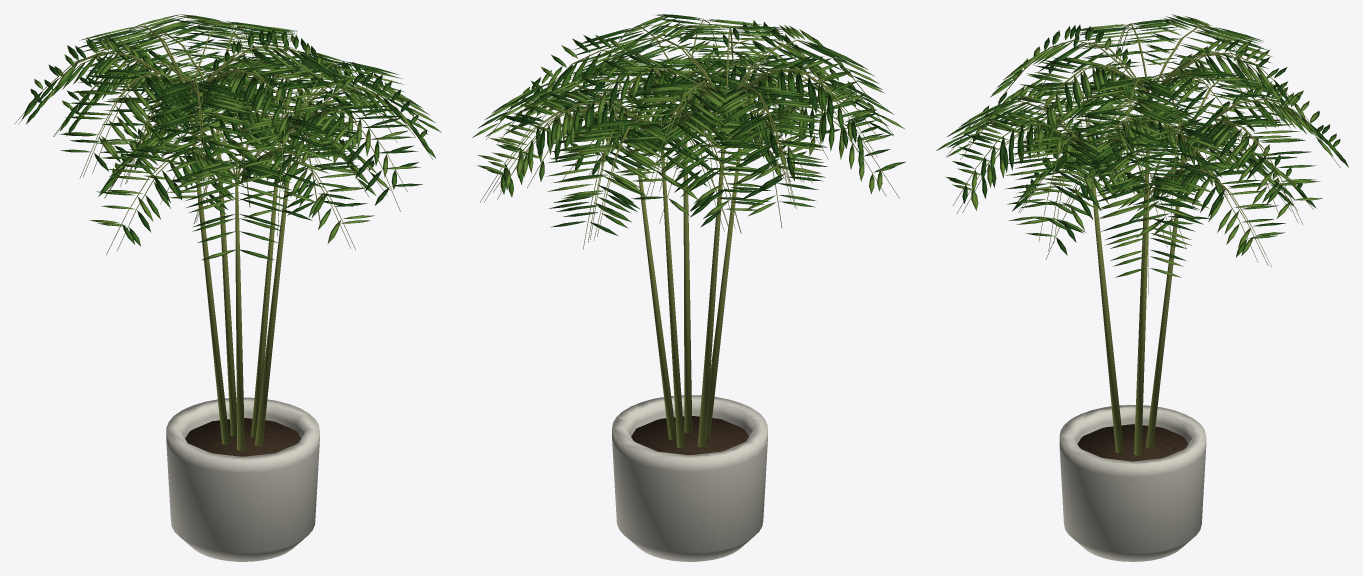
File: MV_Palm_Pot_Round_Small.fbx
3 renders of one model, left to right at view 1: azimuth 30°, elevation 25°; view 2: azimuth 150°, elevation 25°; view 3: azimuth 270°, elevation 25°, orthographic. The views are drawn at different scales.
Visible parts, largest first — view 1: LOD0_Mesh, LOD1_Mesh, LOD2_Mesh; view 2: LOD0_Mesh, LOD1_Mesh, LOD2_Mesh; view 3: LOD0_Mesh, LOD1_Mesh, LOD2_Mesh.
Boxes of the visible parts, x1,y1,x2,y2 form: LOD0_Mesh: (26,14,441,561); LOD1_Mesh: (18,14,428,561); LOD2_Mesh: (14,23,410,561); LOD0_Mesh: (472,14,896,561); LOD1_Mesh: (477,25,905,561); LOD2_Mesh: (477,30,877,561); LOD0_Mesh: (945,16,1348,561); LOD1_Mesh: (936,14,1348,560); LOD2_Mesh: (1017,16,1340,558).
Bounding box in the file's own units: 1.15 × 1.44 × 1.16.
